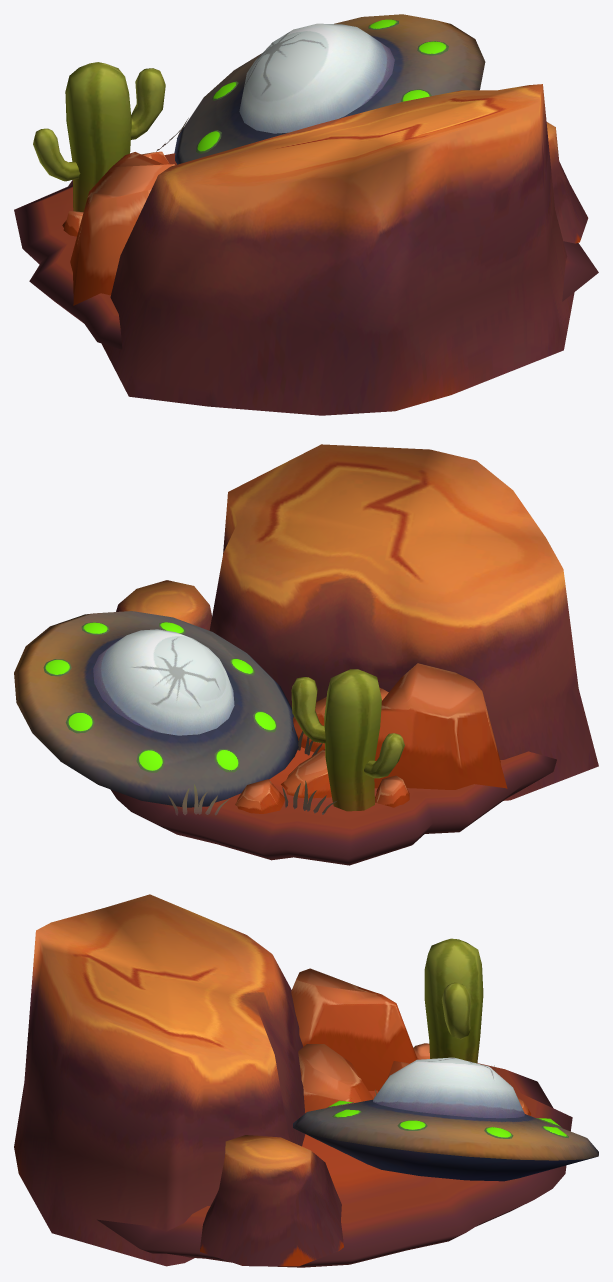
Rendered from MesaOdysseyStatue.fbx.
3 renders of one model, top to bottom at view 1: azimuth 30°, elevation 25°; view 2: azimuth 150°, elevation 25°; view 3: azimuth 270°, elevation 25°, orthographic. The views are drawn at different scales.
Visible parts, largest first — view 1: MesaOdysseyStatue; view 2: MesaOdysseyStatue; view 3: MesaOdysseyStatue.
Boxes of the visible parts, x1,y1,x2,y2 form: MesaOdysseyStatue: [14, 14, 598, 415]; MesaOdysseyStatue: [14, 444, 598, 865]; MesaOdysseyStatue: [14, 894, 598, 1267].
Size of the model in its own units: 20.65 by 9.77 by 22.36.
